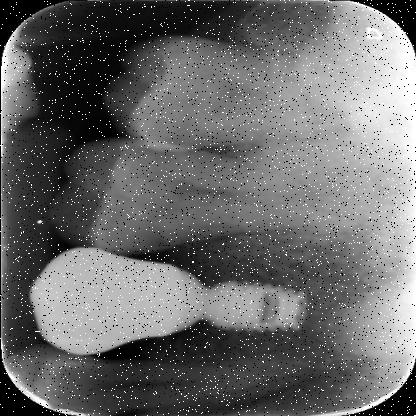Bicon: (193, 260, 324, 348)
